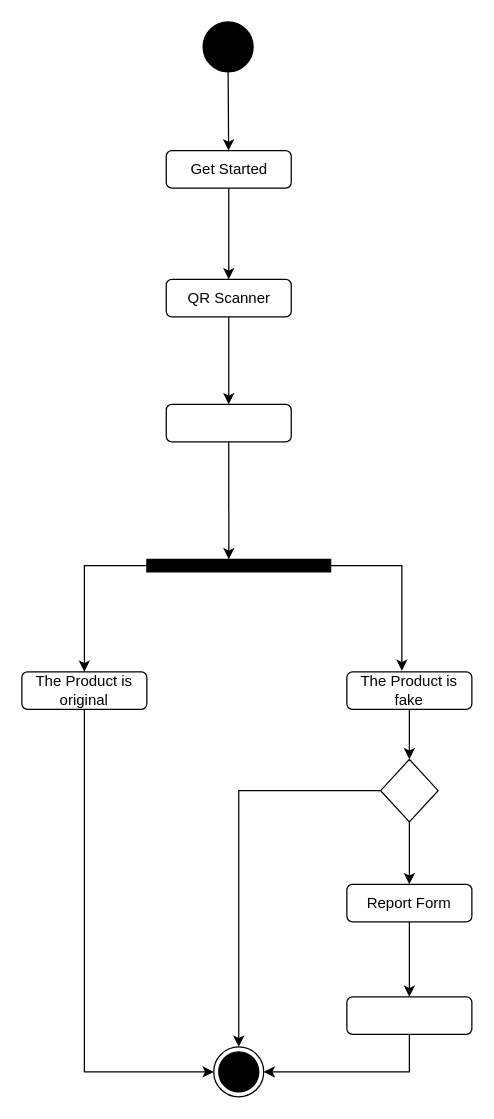
The diagram is 494 pixels wide and 1119 high, and some of its shapes have lost their labels. The centre of each missing label's shape, as x and y in pixels:
Generate Form: (x=409, y=1015)
Scanned the Product: (x=228, y=422)
